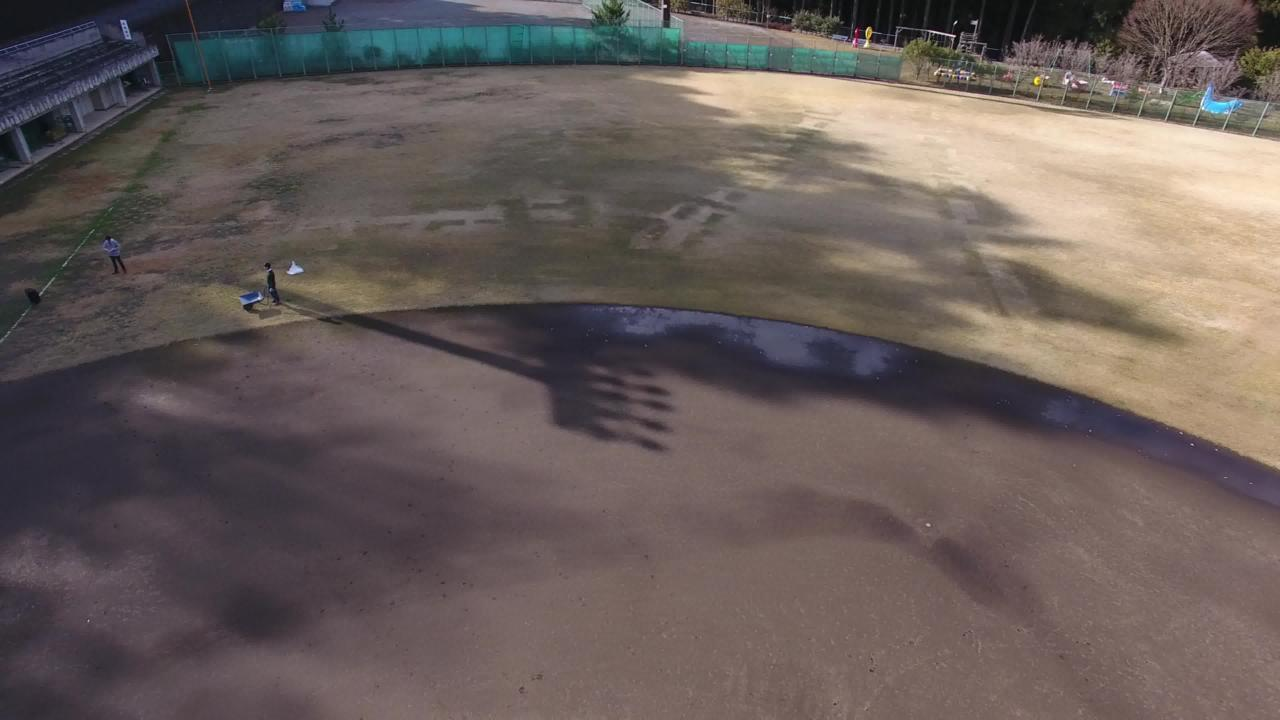person: (95, 236, 129, 288), (253, 251, 287, 303)
